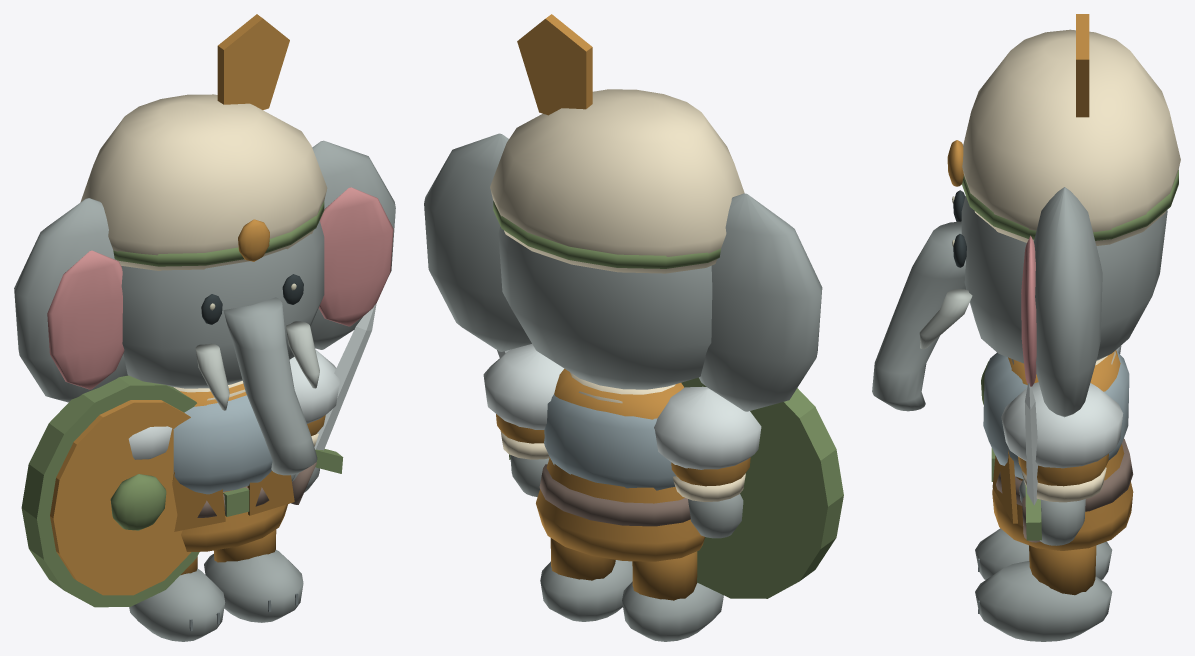
File: guard.glb
3 renders of one model, left to right at view 1: azimuth 30°, elevation 25°; view 2: azimuth 150°, elevation 25°; view 3: azimuth 270°, elevation 25°, orthographic. The views are drawn at different scales.
Parts seen in each view (by area): view 1: Layered cloth turban, Regional shield face, Animal cheek head, Shield gold rim, Elephant broad ear, Curved elephant trunk, Elephant ear lining, Elephant ear lining.001, Rounded breastplate, Soft animal paw.001, Turban fan, Soft animal paw (+15 smaller); view 2: Layered cloth turban, Animal cheek head, Elephant broad ear, Shield gold rim, Elephant broad ear.001, Short folded tunic, Rounded breastplate, Big shoulder armour, Turban fan, Big shoulder armour.001, Soft animal paw, Soft animal paw.001 (+11 smaller); view 3: Layered cloth turban, Animal cheek head, Elephant broad ear.001, Curved elephant trunk, Soft animal paw.001, Big shoulder armour.001, Short folded tunic, Rounded breastplate, Stubby trouser.001, Soft animal paw, Turban wrapping, Elephant ear lining.001 (+10 smaller).
Part boxes in pixels (<box>): Layered cloth turban: <box>80,94,327,270</box>; Regional shield face: <box>50,400,190,595</box>; Animal cheek head: <box>121,221,324,388</box>; Shield gold rim: <box>21,375,199,607</box>; Elephant broad ear: <box>14,198,127,402</box>; Curved elephant trunk: <box>223,297,317,475</box>; Elephant ear lining: <box>47,250,124,389</box>; Elephant ear lining.001: <box>318,187,393,326</box>; Rounded breastplate: <box>173,395,272,494</box>; Soft animal paw.001: <box>204,550,303,622</box>; Turban fan: <box>217,14,289,109</box>; Soft animal paw: <box>129,568,225,641</box>; Layered cloth turban: <box>490,89,744,273</box>; Animal cheek head: <box>498,226,712,389</box>; Elephant broad ear: <box>699,193,822,411</box>; Shield gold rim: <box>681,377,843,598</box>; Elephant broad ear.001: <box>424,133,531,351</box>; Short folded tunic: <box>536,368,705,561</box>; Rounded breastplate: <box>544,394,676,490</box>; Big shoulder armour: <box>654,386,761,469</box>; Turban fan: <box>517,14,592,115</box>; Big shoulder armour.001: <box>483,344,564,429</box>; Soft animal paw: <box>622,581,723,641</box>; Soft animal paw.001: <box>540,560,632,621</box>; Layered cloth turban: <box>962,29,1180,245</box>; Animal cheek head: <box>961,196,1167,363</box>; Elephant broad ear.001: <box>1034,187,1102,417</box>; Curved elephant trunk: <box>872,221,966,411</box>; Soft animal paw.001: <box>975,561,1112,641</box>; Big shoulder armour.001: <box>1001,382,1123,468</box>; Short folded tunic: <box>992,350,1133,550</box>; Rounded breastplate: <box>983,352,1129,478</box>; Stubby trouser.001: <box>1029,545,1096,595</box>; Soft animal paw: <box>975,528,1112,579</box>; Turban wrapping: <box>962,170,1178,240</box>; Elephant ear lining.001: <box>1021,235,1036,386</box>.
Size of the model in its own units: 1.26 by 1.84 by 0.81.
